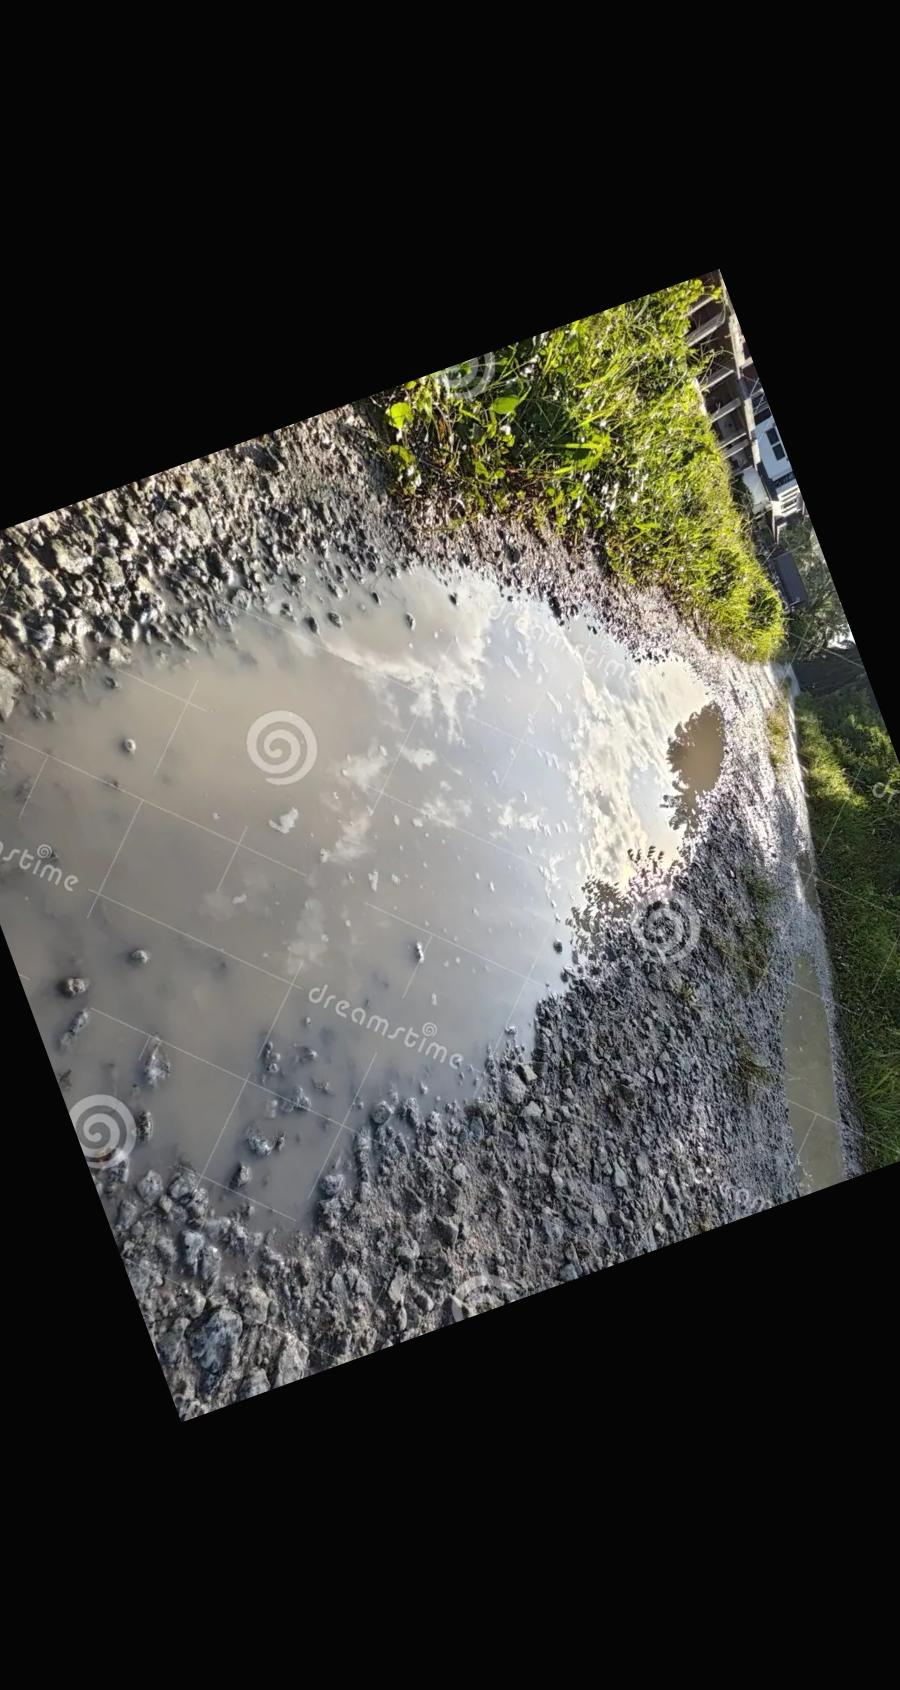Stagnant water: (0, 268, 900, 1422)
